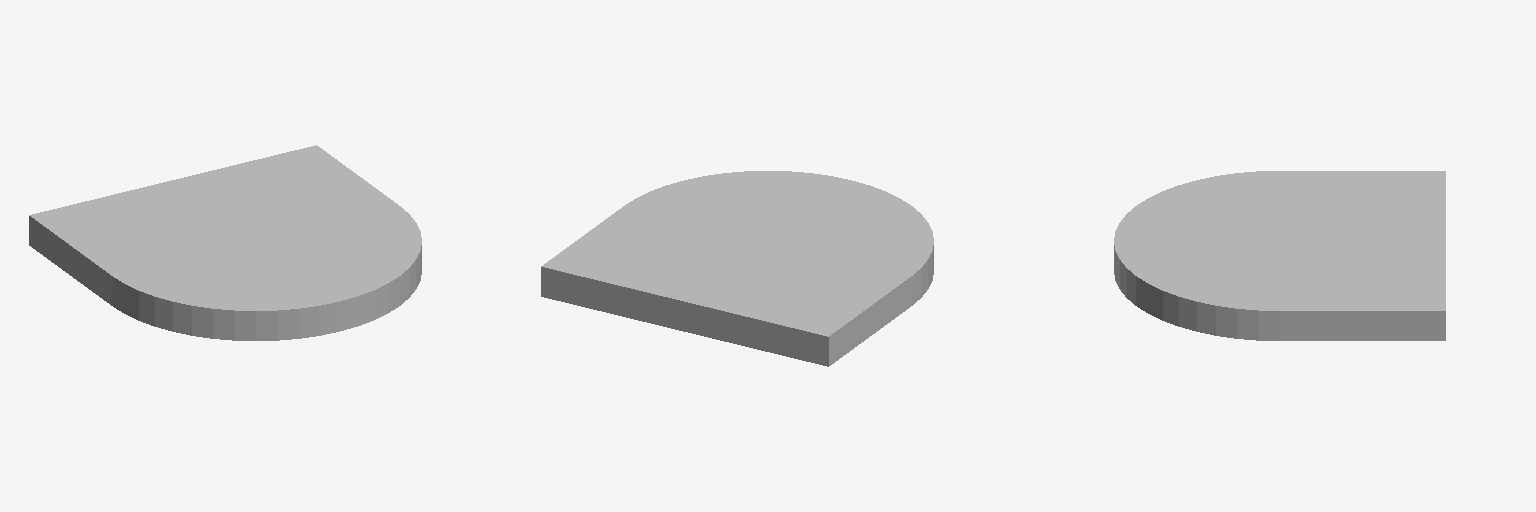
The model's file is fant_suspension_panel_1x1a.obj.
The picture shows the model from 3 angles: view 1: azimuth 30°, elevation 25°; view 2: azimuth 150°, elevation 25°; view 3: azimuth 270°, elevation 25°; orthographic projection.
Parts seen in each view (by area): view 1: suspension_panel_1x1a__Cube; view 2: suspension_panel_1x1a__Cube; view 3: suspension_panel_1x1a__Cube.
Boxes of the visible parts, <box> form: suspension_panel_1x1a__Cube: <box>29,145,421,340</box>; suspension_panel_1x1a__Cube: <box>541,171,933,366</box>; suspension_panel_1x1a__Cube: <box>1114,171,1445,340</box>.
Bounding box in the file's own units: 1 × 0.1 × 1.